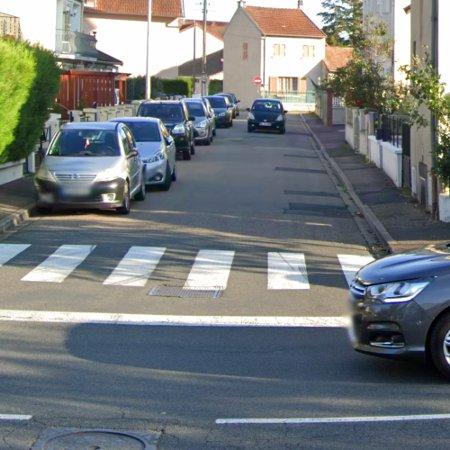crosswalks: (0, 241, 374, 290)
